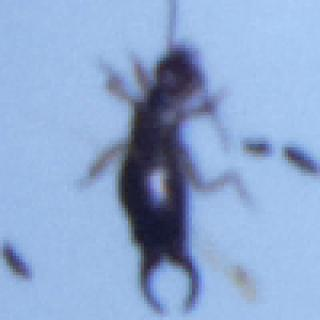earwig: (72, 3, 251, 320)
